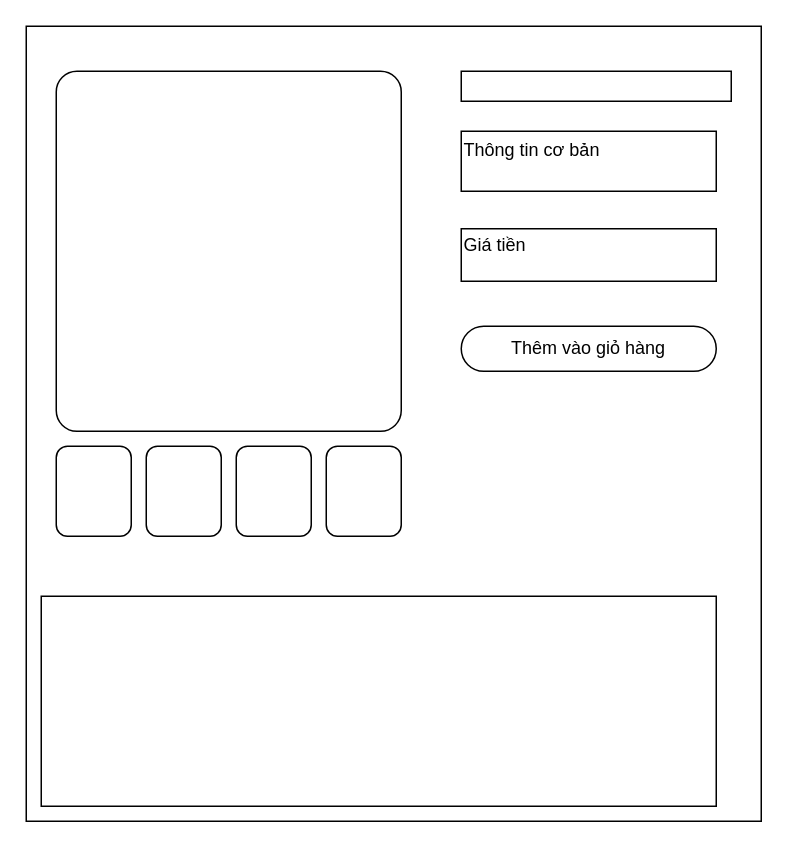
Some shapes in this 788 by 848 pixel diagram are drawn without their labels. Each missing label, with the box of its shape:
Thông số kỹ thuật: (40, 595, 716, 806)
Tên sản phẩm: (460, 70, 731, 101)
